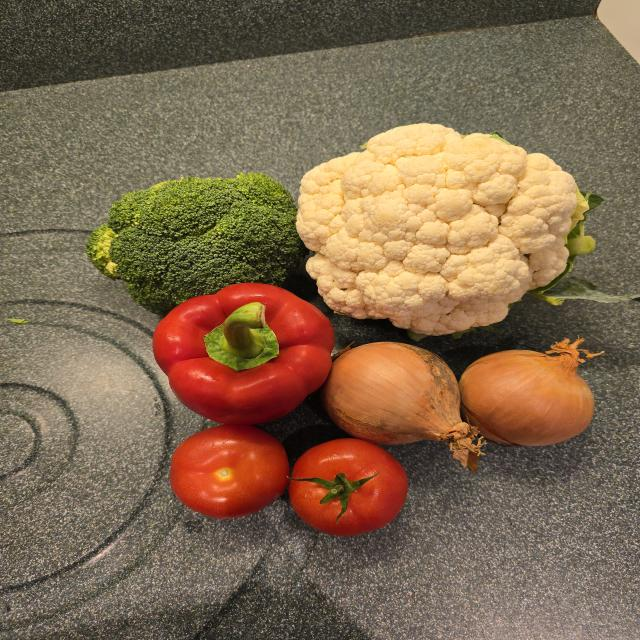Bell Pepper: (153, 283, 334, 424)
Broccoli: (87, 173, 307, 314)
Cauliflower: (297, 124, 602, 338)
Onion: (459, 336, 601, 445), (321, 342, 467, 444)
Tomato: (289, 438, 408, 536), (170, 424, 290, 518)
